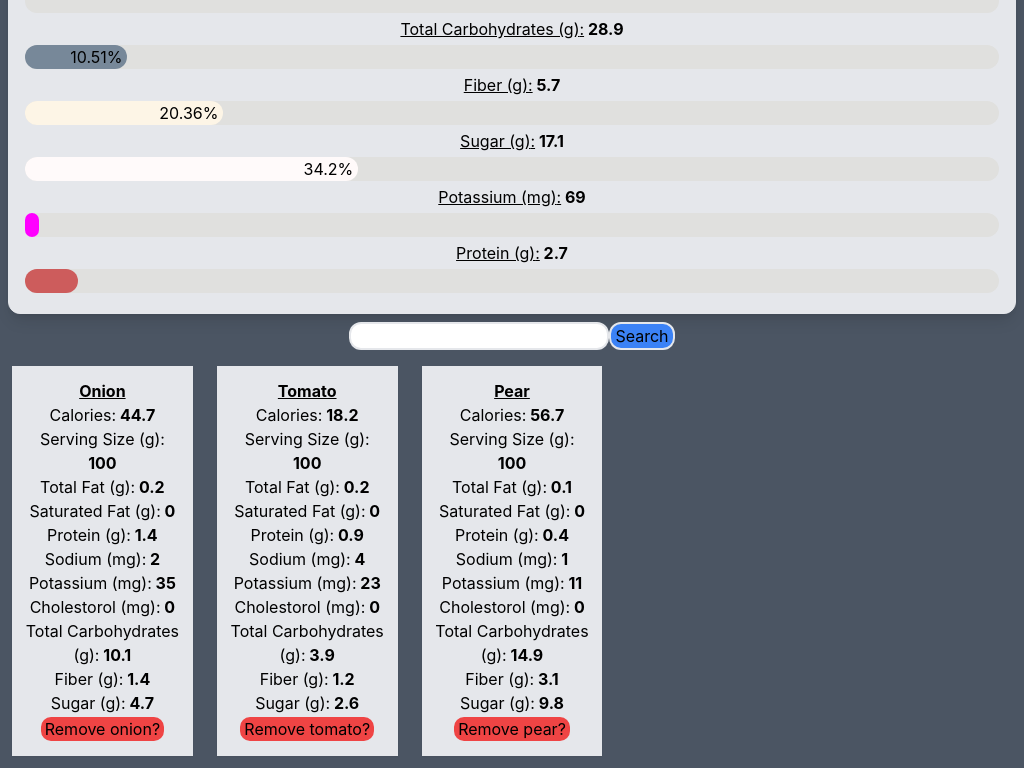
it: Homepage › can remove items
(page scrolled)
Click the button "Remove pear?": [512, 729] box [452,715,572,743]
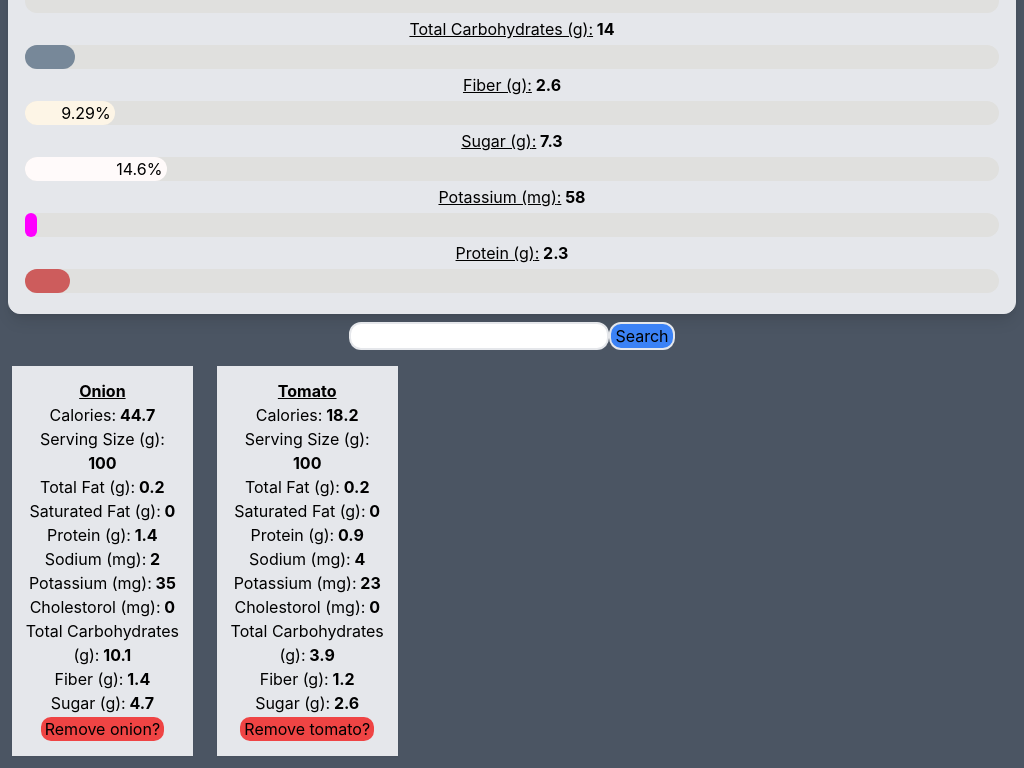
Result: the text "Pear" is gone
